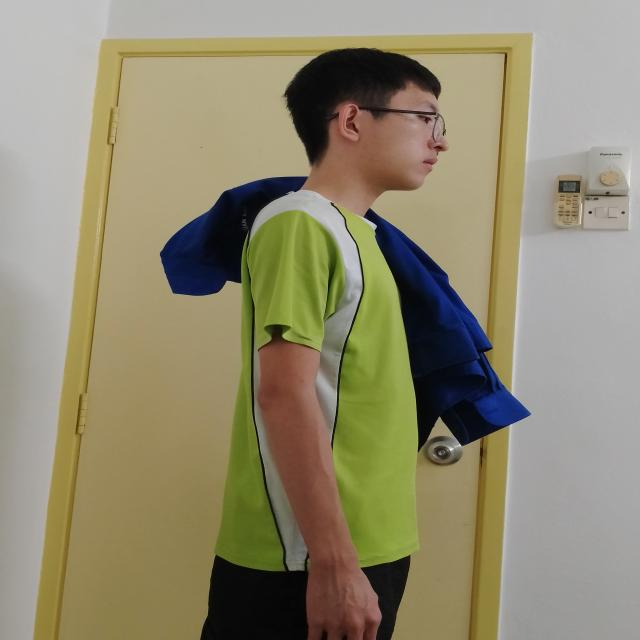person_without_labcoat: (161, 48, 529, 640)
